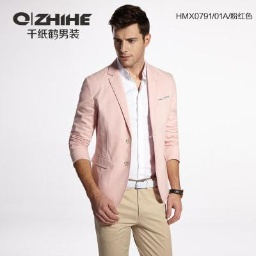face: (108, 4, 152, 69)
